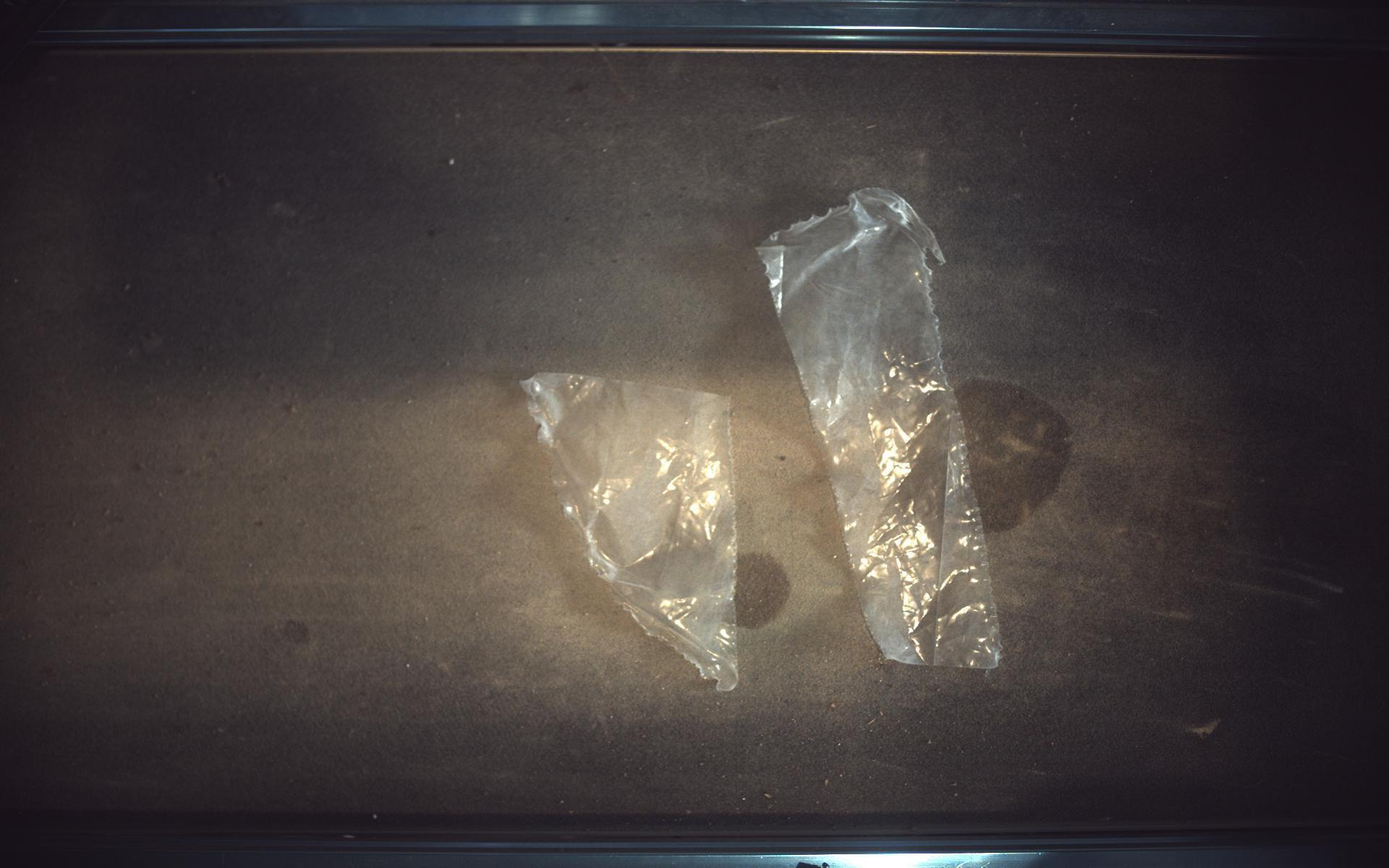general_w: (760, 188, 1003, 670), (523, 373, 739, 692)
